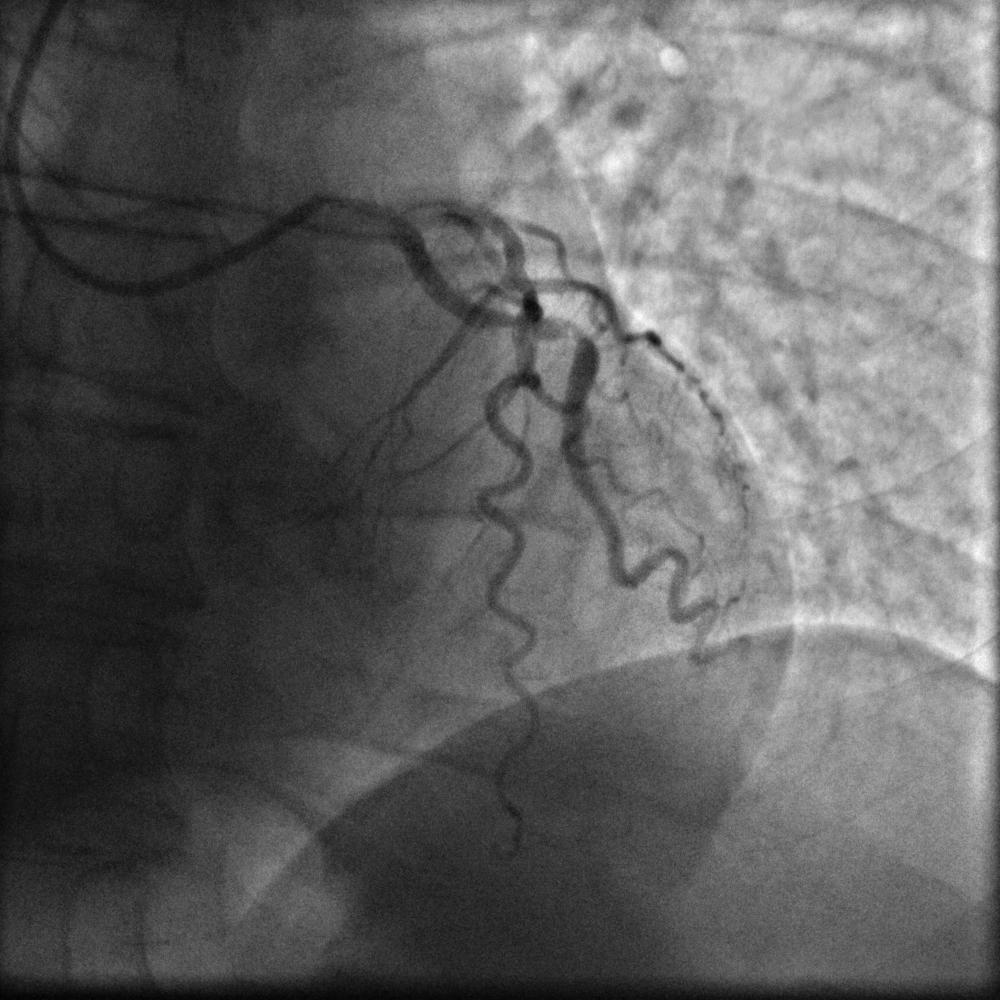Stenosis: (543, 308, 598, 360)
